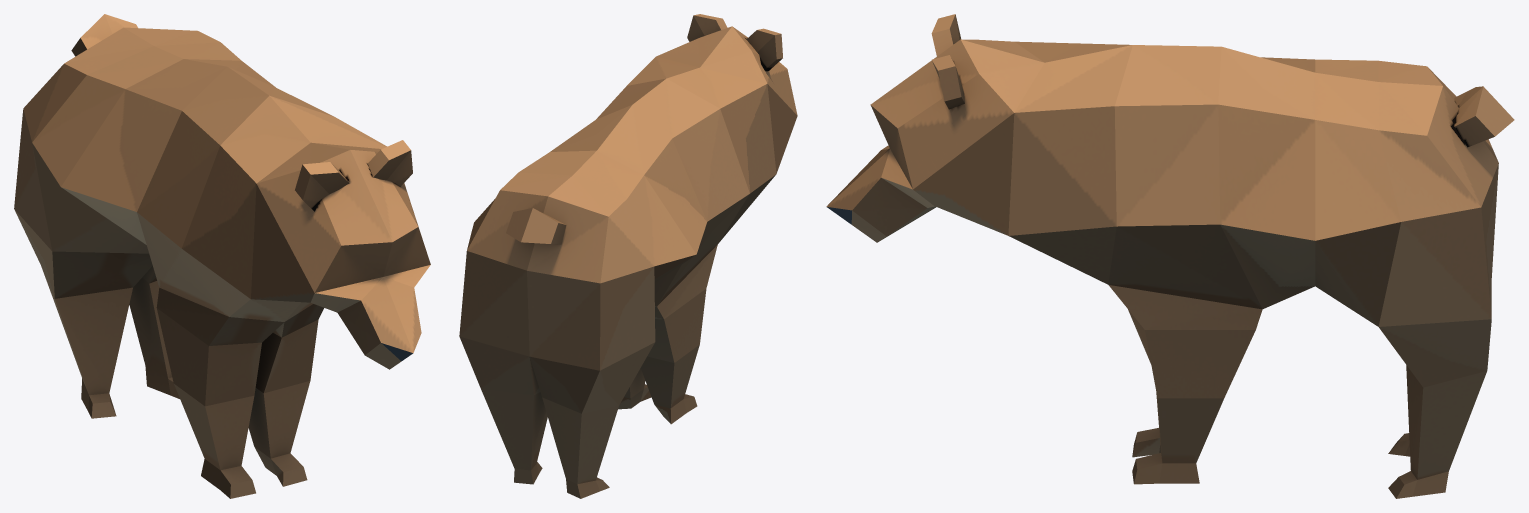
The model's file is 9ead101b-65bf-45a5-ac3b-daa913f2544d.glb.
The picture shows the model from 3 angles, left to right: view 1: azimuth 30°, elevation 25°; view 2: azimuth 150°, elevation 25°; view 3: azimuth 270°, elevation 25°; orthographic projection. The views are drawn at different scales.
Visible parts, largest first — view 1: bear; view 2: bear; view 3: bear.
Part boxes in pixels (x1,y1,x2,y2): bear: [14, 14, 430, 498]; bear: [459, 14, 797, 498]; bear: [826, 14, 1514, 498].
Bounding box in the file's own units: 0.9821 × 1.55 × 2.24.
1 material, 1 textured.
